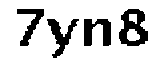7: (14, 4, 46, 51)
8: (119, 7, 151, 51)
n: (80, 16, 113, 51)
y: (44, 14, 78, 60)
